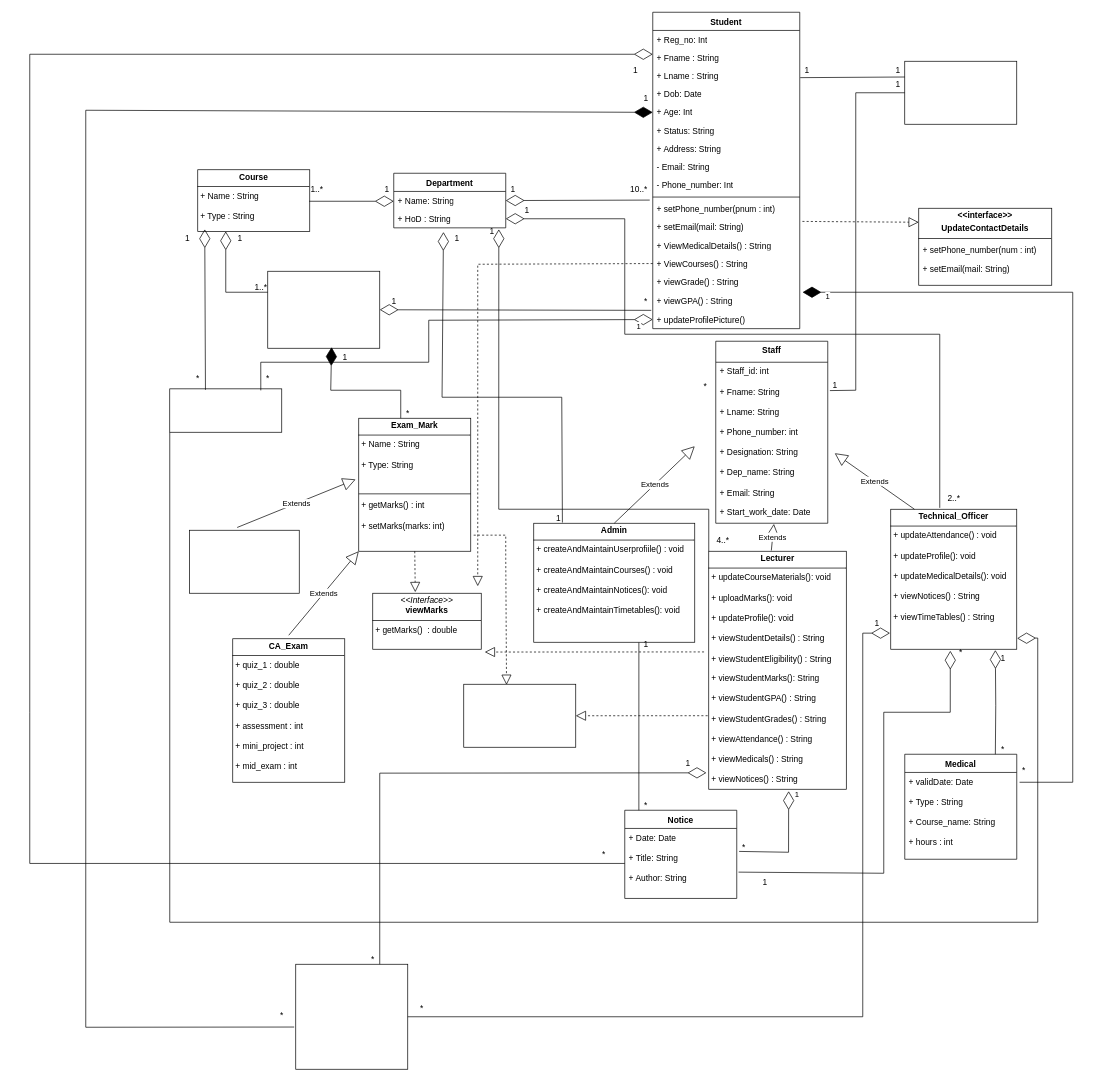
Some shapes in this 1103 by 1082 pixel diagram are drawn without their labels. Here are the shapes that lost their labels. From the top down, the centre of each, then its label:
the point at 960,92: User + username : String + password : int
the point at 323,309: Subject + Name : String + code : int + Type : String +
the point at 225,410: Timetable + Date : Date
the point at 244,561: Final_Exam + theory_part: int + practical_part : int
the point at 519,715: <<interface>> updateMarks + setMarks(imarks double)
the point at 351,1016: Attendance + Date : Date + Time : char + Type : char + Number_of_hours : int
